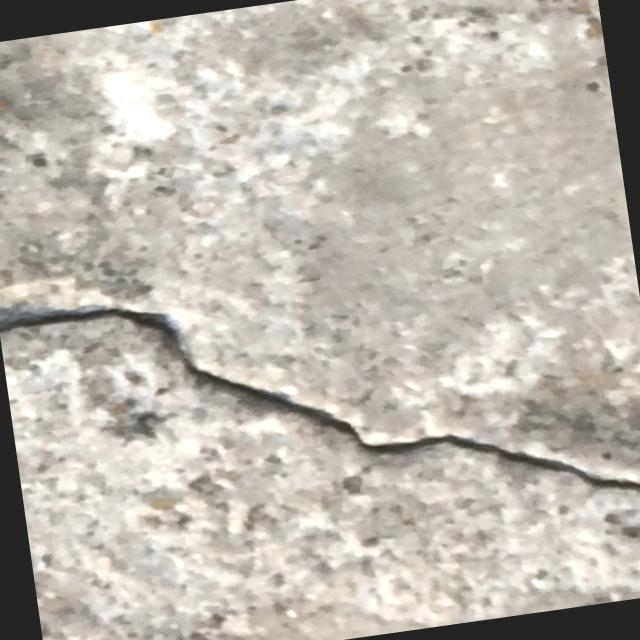crack: (0, 215, 640, 579)
